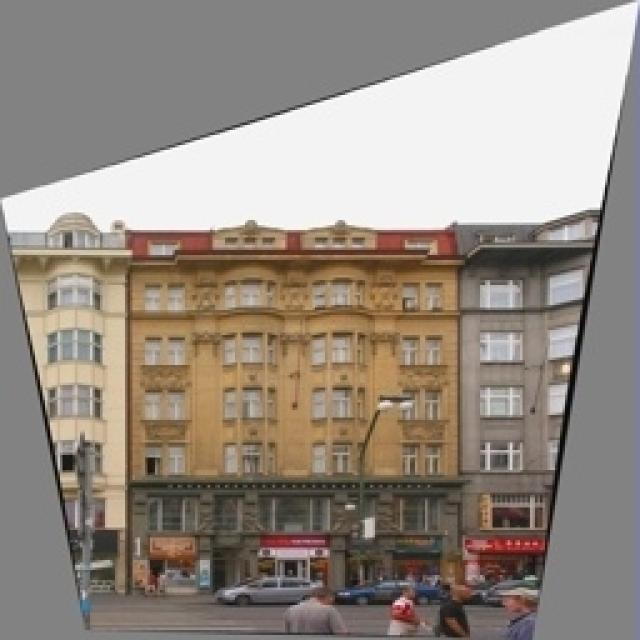building: (127, 215, 465, 590)
